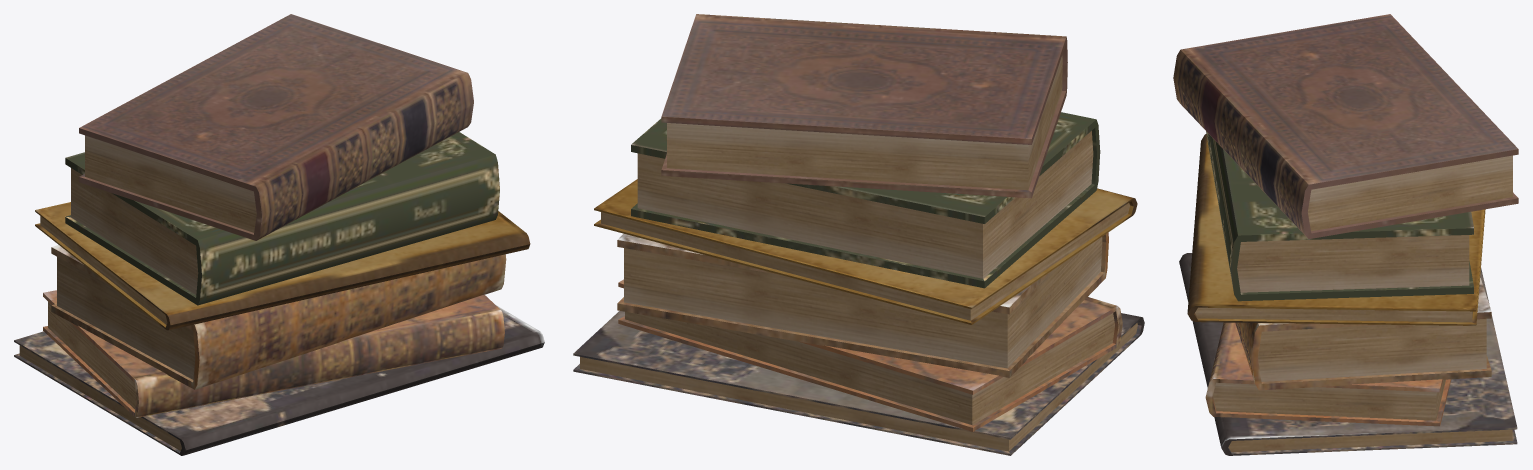
Rendered from SM_Book_Old.044.fbx.
3 views of the same model, side by side, from view 1: azimuth 30°, elevation 25°; view 2: azimuth 150°, elevation 25°; view 3: azimuth 270°, elevation 25° (orthographic). The views are drawn at different scales.
Visible parts, largest first — view 1: SM_Book_Old.044; view 2: SM_Book_Old.044; view 3: SM_Book_Old.044.
Part boxes in pixels (box(x1,y1,x2,y2)): SM_Book_Old.044: box(14, 14, 544, 455); SM_Book_Old.044: box(573, 14, 1144, 455); SM_Book_Old.044: box(1173, 14, 1518, 455).
Bounding box in the file's own units: 0.3745 × 0.2247 × 0.2756.
